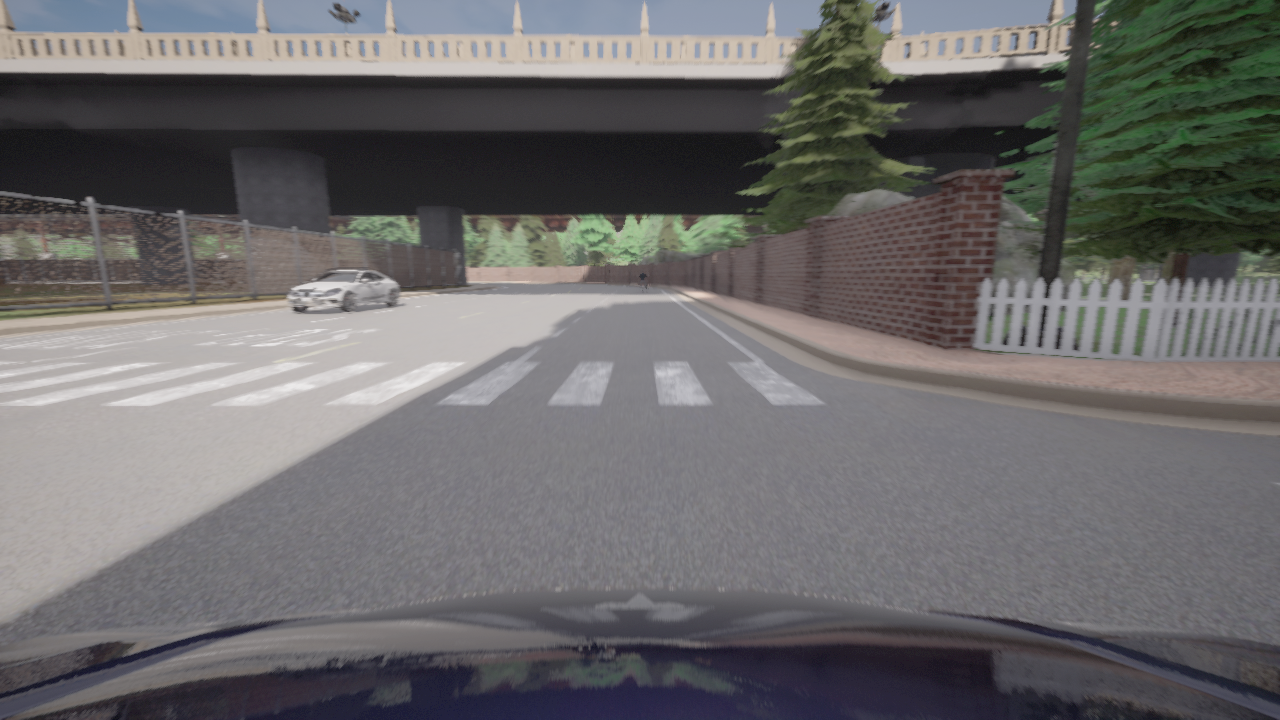cyclist: (0, 588, 1279, 719), (287, 269, 399, 312), (640, 275, 648, 292)
